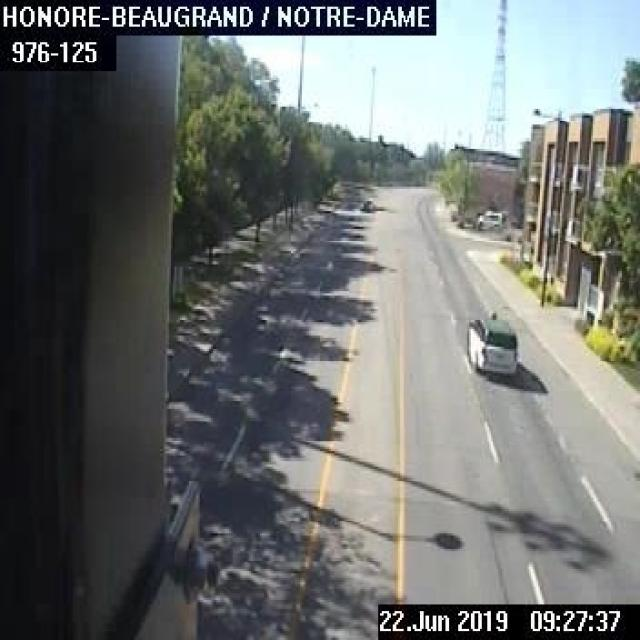vehicle: (464, 314, 516, 374), (476, 209, 504, 227), (358, 198, 373, 210)
